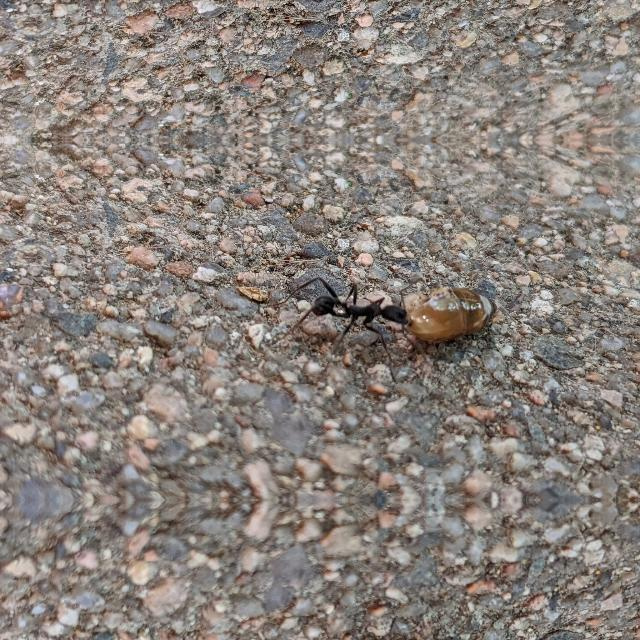Apheanogaster: (275, 274, 417, 346)
